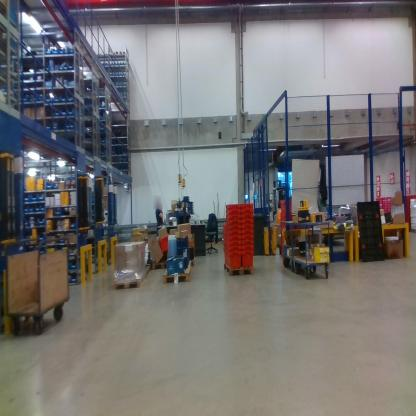forklift: (270, 178, 293, 249)
pallet: (222, 258, 256, 279), (116, 270, 149, 290), (165, 265, 193, 285), (152, 259, 171, 270), (144, 263, 151, 276), (191, 259, 198, 264)
small_load_carrier: (223, 250, 241, 270), (241, 249, 254, 268), (222, 244, 241, 252), (226, 200, 241, 210), (222, 223, 240, 229), (223, 233, 240, 239), (241, 228, 255, 235), (225, 212, 241, 218), (223, 239, 241, 244), (240, 201, 254, 207), (241, 218, 254, 224), (222, 229, 240, 233), (242, 207, 254, 213), (227, 219, 240, 224), (241, 235, 254, 240), (242, 213, 254, 218), (242, 244, 254, 249), (241, 224, 254, 228), (242, 240, 254, 244), (226, 210, 241, 212)
